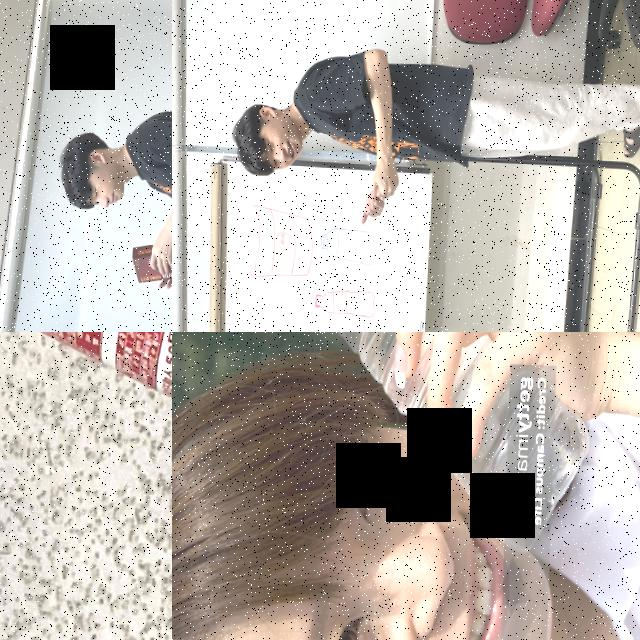bottle: (261, 332, 600, 559)
can: (0, 332, 172, 415)
